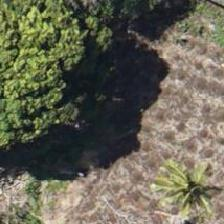coconut_tree: (140, 155, 223, 223)
